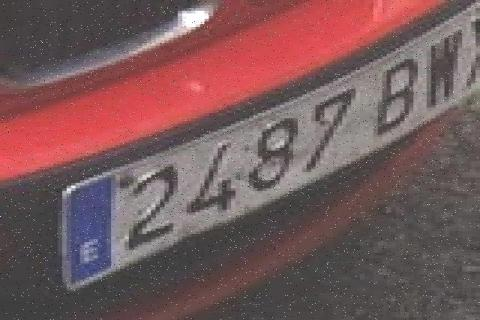LicensePlate: (6, 0, 479, 298)
